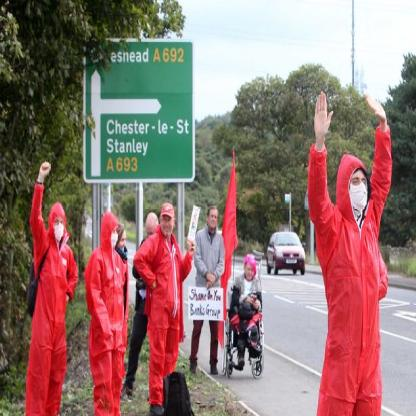person: (294, 57, 416, 415), (18, 137, 75, 415), (135, 187, 192, 415), (84, 187, 130, 415), (187, 192, 225, 389)
